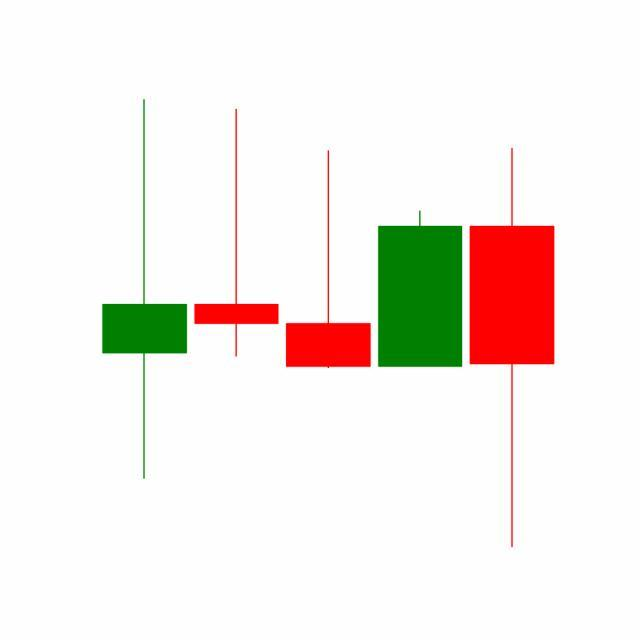Marubozu: (374, 209, 468, 369)
